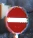No entry: (6, 6, 28, 33)
